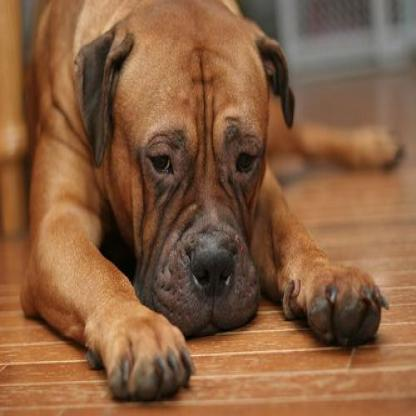bull_mastiff: (19, 3, 387, 396)
